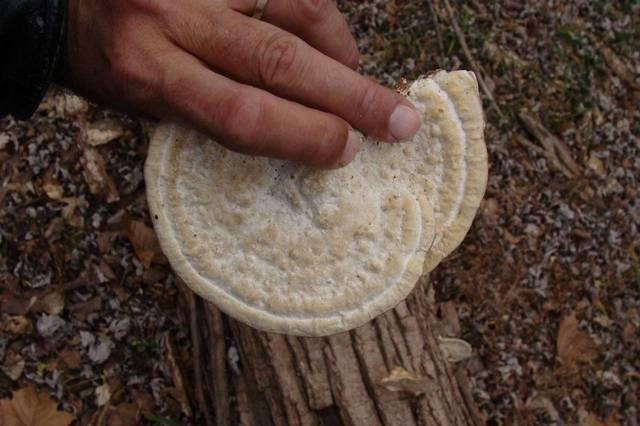Non-edible Mushroom: (142, 66, 490, 337)
